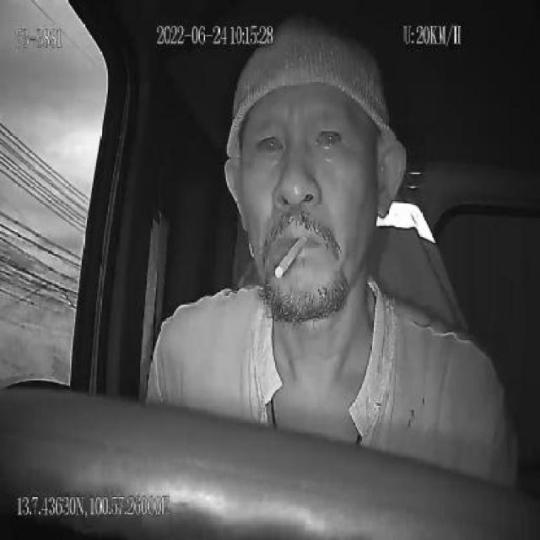smoking: (272, 235, 308, 282)
